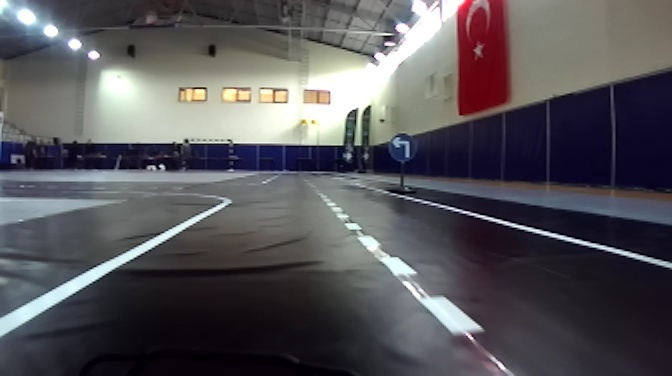sola_donus: (385, 124, 421, 168)
